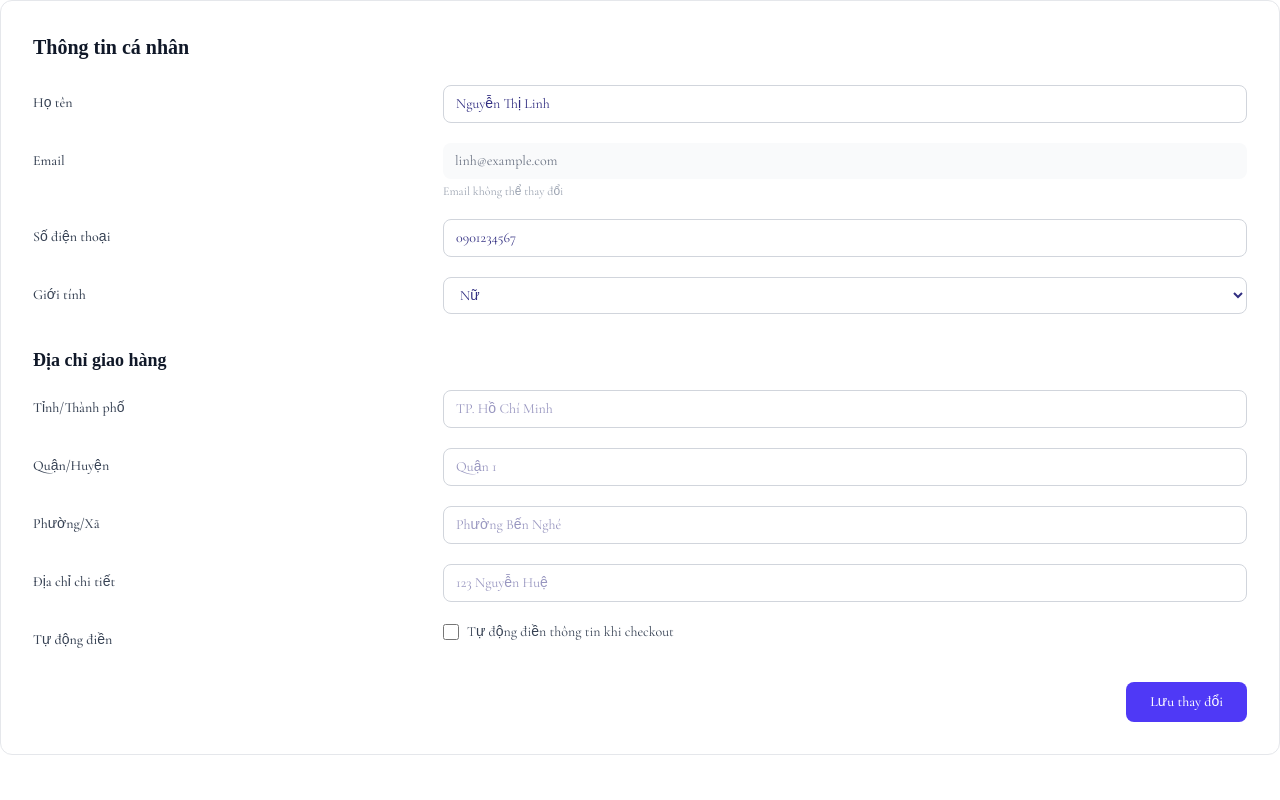
Test: PersonalInfoForm › shows inline error for short full_name
In the field labelled "Họ tên": x=845, y=104 [443, 85, 1247, 123], type "A"
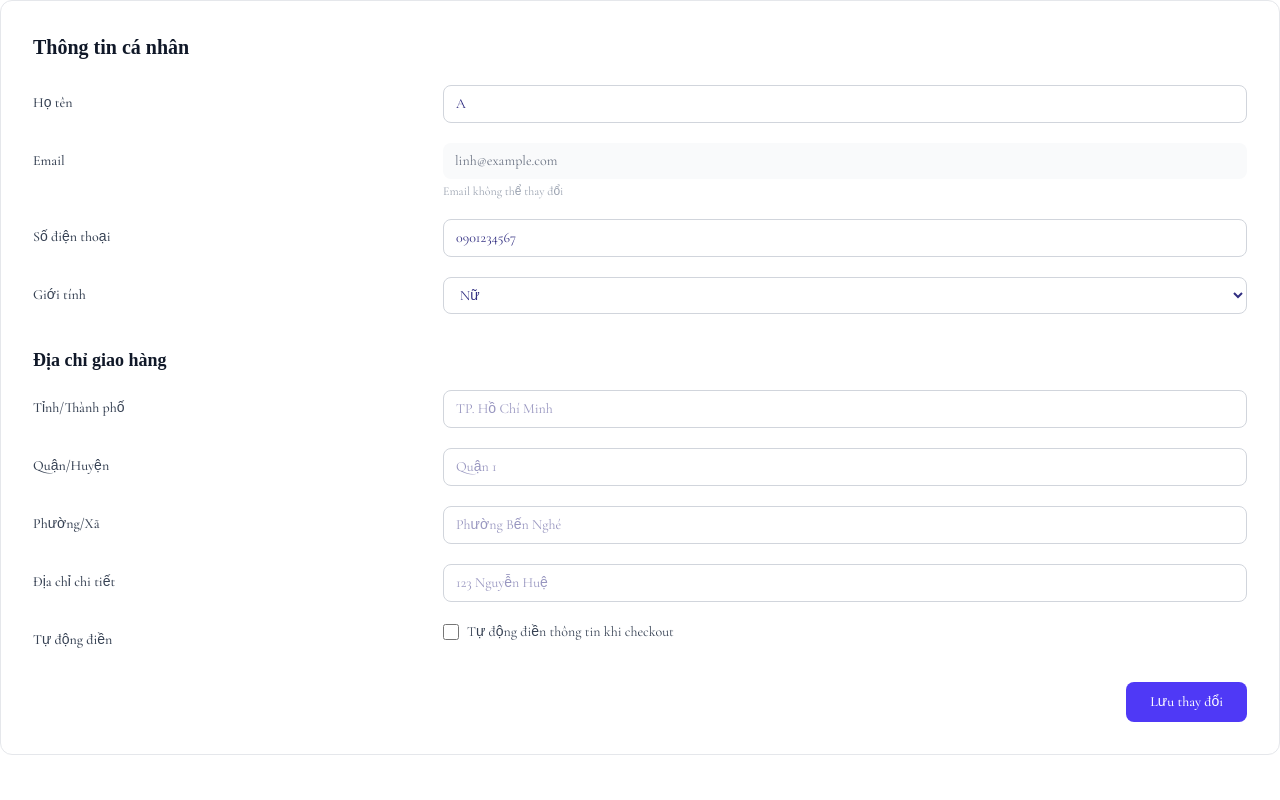
Click the button "Lưu thay đổi": x=1187, y=702 [1126, 682, 1247, 722]
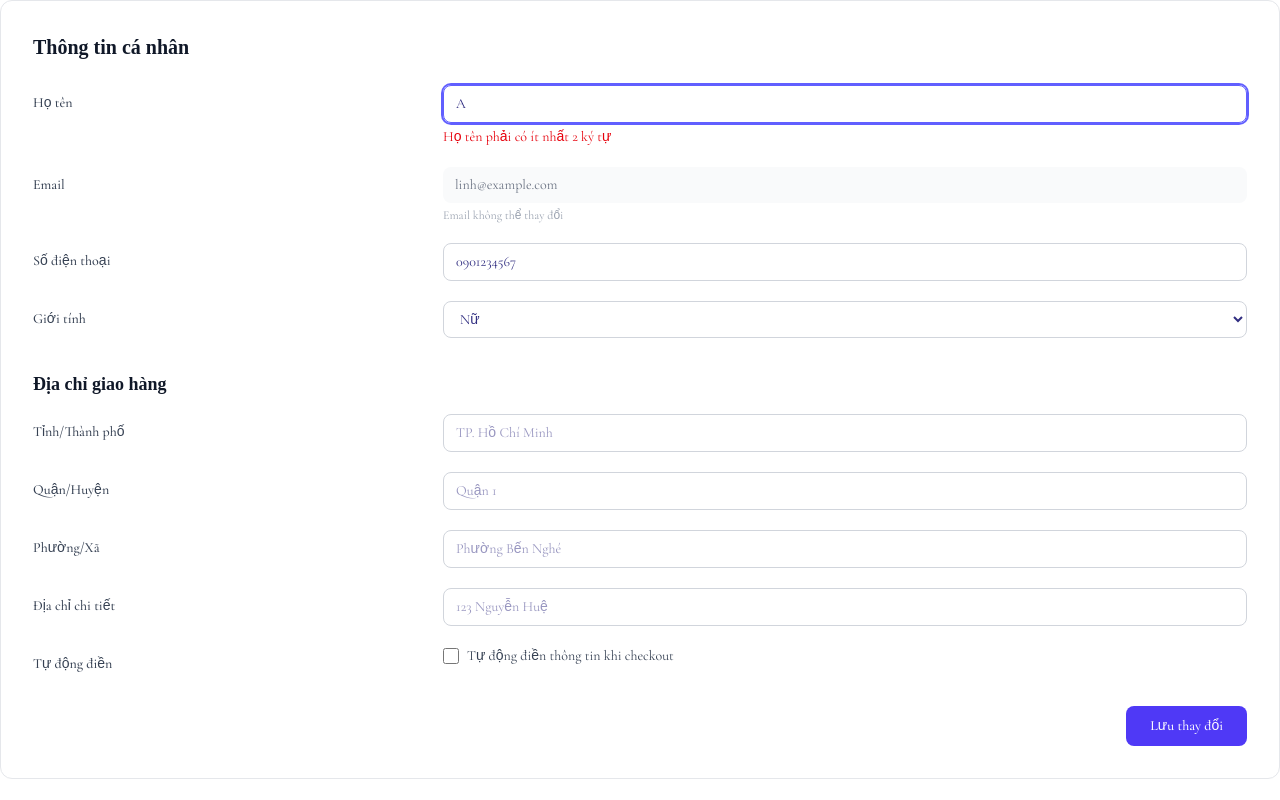
Now the text "Họ tên phải có ít nhất 2 ký tự" is shown, box [443, 128, 611, 145]
